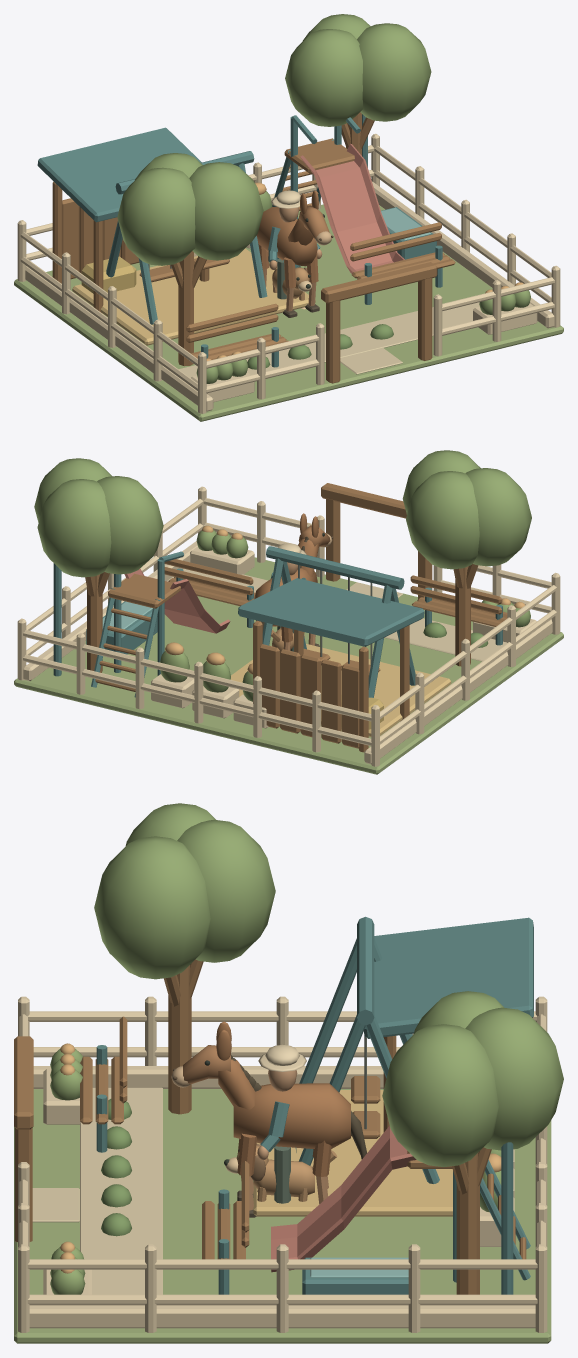
File: leisure.glb
The picture shows the model from 3 angles, top to bottom: view 1: azimuth 30°, elevation 25°; view 2: azimuth 150°, elevation 25°; view 3: azimuth 270°, elevation 25°; orthographic projection. The views are drawn at different scales.
Visible parts, largest first — view 1: Meadow turf, Sand play area, Sloping teal shelter roof, Soft leaf crown.003, Soft leaf crown, Soft leaf crown.001, Soft leaf crown.004, Curved slide, Walking path, Low stone edging, Low stone edging.001, Welcome gate arch (+42 smaller); view 2: Meadow turf, Sloping teal shelter roof, Soft leaf crown.002, Soft leaf crown.005, Soft leaf crown, Soft leaf crown.003, Sand play area, Back fence rail.001, Back fence rail, Low stone edging, Walking path, Curved slide (+56 smaller); view 3: Meadow turf, Sloping teal shelter roof, Soft leaf crown.001, Soft leaf crown.004, Walking path, Low stone edging.001, Soft leaf crown.005, Soft leaf crown.002, Sand play area, Side fence rail.002, Curved slide, Shaped horse body (+38 smaller).
Part boxes in pixels (x1=…): Meadow turf: x1=14, y1=204, x2=563, y2=421; Sand play area: x1=72, y1=248, x2=315, y2=345; Sloping teal shelter roof: x1=37, y1=127, x2=201, y2=222; Soft leaf crown.003: x1=117, y1=167, x2=195, y2=265; Soft leaf crown: x1=285, y1=29, x2=362, y2=126; Soft leaf crown.001: x1=357, y1=23, x2=431, y2=121; Soft leaf crown.004: x1=189, y1=162, x2=263, y2=260; Curved slide: x1=300, y1=143, x2=404, y2=278; Walking path: x1=179, y1=302, x2=479, y2=377; Low stone edging: x1=25, y1=266, x2=213, y2=411; Low stone edging.001: x1=372, y1=181, x2=554, y2=328; Welcome gate arch: x1=321, y1=262, x2=437, y2=303; Meadow turf: x1=14, y1=557, x2=563, y2=774; Sloping teal shelter roof: x1=238, y1=578, x2=424, y2=646; Soft leaf crown.002: x1=37, y1=479, x2=111, y2=577; Soft leaf crown.005: x1=406, y1=471, x2=479, y2=569; Soft leaf crown: x1=97, y1=476, x2=163, y2=574; Soft leaf crown.003: x1=465, y1=468, x2=531, y2=566; Sand play area: x1=230, y1=644, x2=451, y2=736; Back fence rail.001: x1=23, y1=630, x2=371, y2=721; Back fence rail: x1=23, y1=654, x2=371, y2=745; Low stone edging: x1=364, y1=619, x2=552, y2=764; Walking path: x1=167, y1=568, x2=506, y2=661; Curved slide: x1=124, y1=568, x2=230, y2=633; Meadow turf: x1=14, y1=1089, x2=551, y2=1343; Sloping teal shelter roof: x1=364, y1=917, x2=533, y2=1038; Soft leaf crown.001: x1=382, y1=1024, x2=498, y2=1167; Soft leaf crown.004: x1=94, y1=836, x2=210, y2=979; Walking path: x1=80, y1=1087, x2=162, y2=1294; Low stone edging.001: x1=29, y1=1305, x2=535, y2=1328; Soft leaf crown.005: x1=177, y1=819, x2=275, y2=962; Soft leaf crown.002: x1=465, y1=1007, x2=563, y2=1150; Sand play area: x1=253, y1=1090, x2=452, y2=1216; Side fence rail.002: x1=27, y1=1294, x2=537, y2=1305; Curved slide: x1=271, y1=1126, x2=416, y2=1272; Shaped horse body: x1=233, y1=1083, x2=350, y2=1148.
Bounding box in the file's own units: 6.71 × 3.33 × 5.63.
